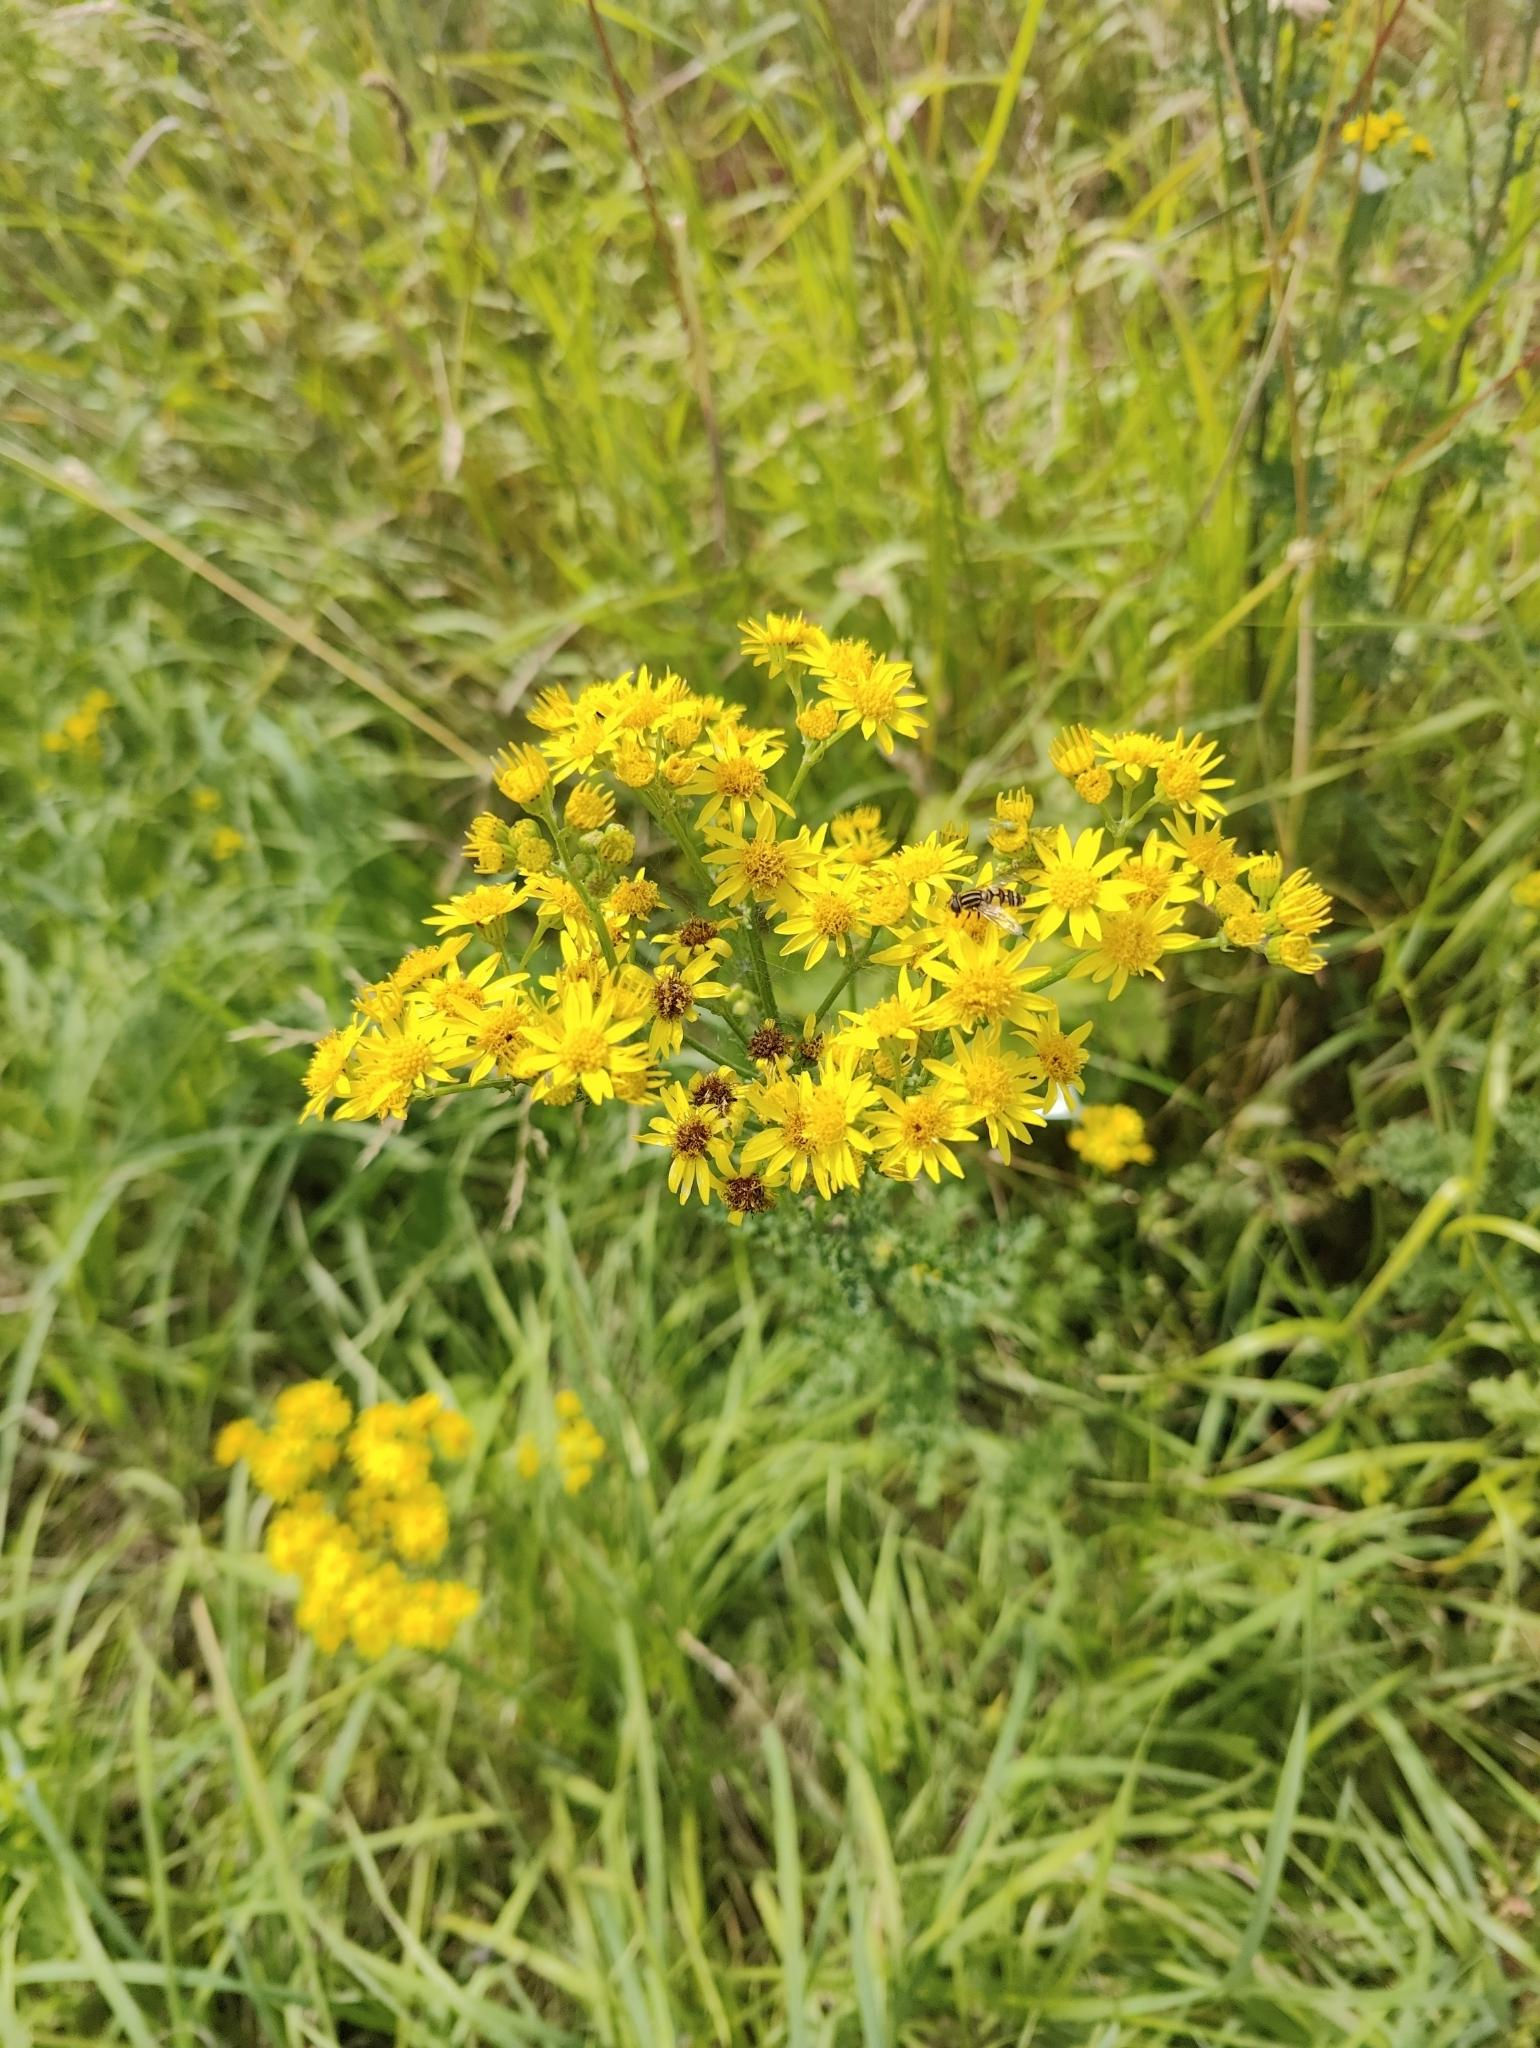Jacobaea vulgaris: (273, 544, 1517, 1653)
